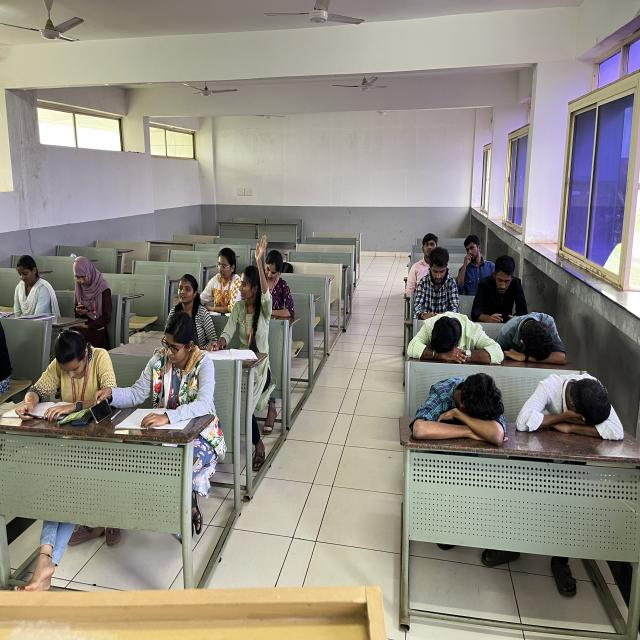Hand Rising: (227, 232, 276, 340)
Reading: (130, 314, 196, 445), (16, 323, 92, 414), (204, 240, 242, 326)
Sleeping: (408, 357, 510, 455), (516, 358, 622, 450), (406, 305, 501, 374), (494, 310, 576, 365)
Using Phone: (473, 261, 539, 322), (416, 245, 466, 322), (62, 254, 107, 327)
